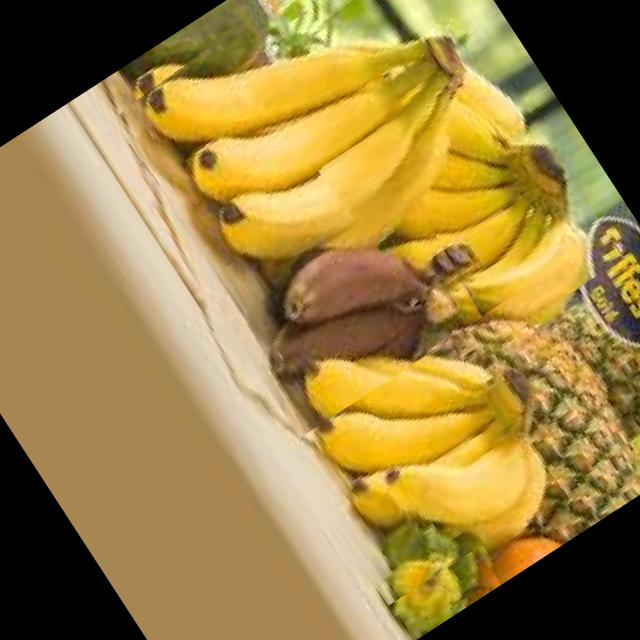Organic: (100, 0, 514, 320), (248, 277, 582, 611), (316, 56, 622, 372), (358, 276, 640, 593), (213, 184, 490, 438)
